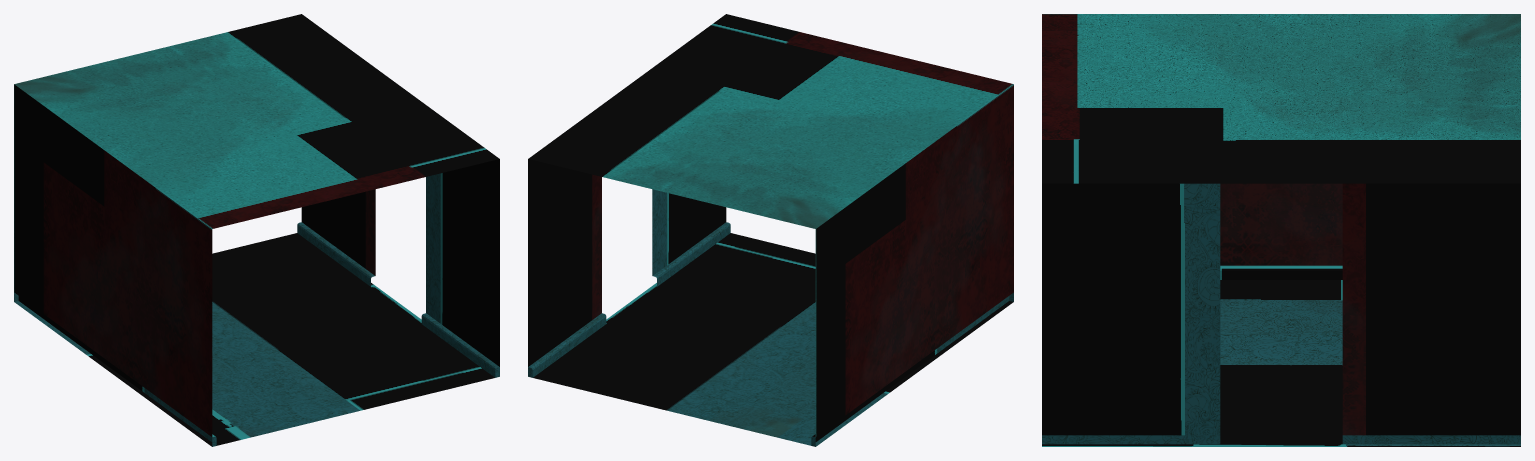
The model's file is koridorSagOrta.fbx.
3 renders of one model, left to right at view 1: azimuth 30°, elevation 25°; view 2: azimuth 150°, elevation 25°; view 3: azimuth 270°, elevation 25°, orthographic. The views are drawn at different scales.
Visible parts, largest first — view 1: sagOrta; view 2: sagOrta; view 3: sagOrta.
Boxes of the visible parts, <box> form: sagOrta: <box>14,14,499,446</box>; sagOrta: <box>528,14,1013,446</box>; sagOrta: <box>1042,14,1520,446</box>.
Size of the model in its own units: 622 by 450 by 742.
